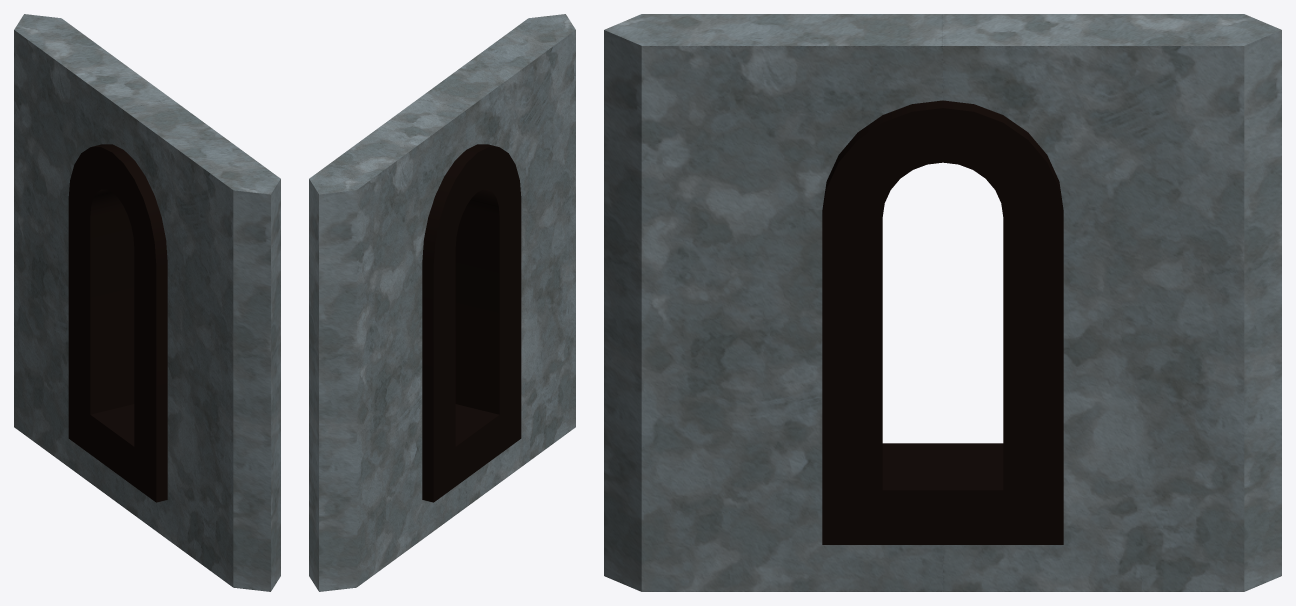
File: window_arch.fbx
3 views of the same model, side by side, from view 1: azimuth 30°, elevation 25°; view 2: azimuth 150°, elevation 25°; view 3: azimuth 270°, elevation 25° (orthographic). The views are drawn at different scales.
Parts seen in each view (by area): view 1: window_roundedHigh; view 2: window_roundedHigh; view 3: window_roundedHigh.
Part boxes in pixels (x1=…): window_roundedHigh: x1=14, y1=14, x2=280, y2=591; window_roundedHigh: x1=309, y1=14, x2=575, y2=591; window_roundedHigh: x1=604, y1=14, x2=1281, y2=591.
Size of the model in its own units: 1.85 by 10 by 11.25.
Materials: 2 (1 with a texture image).
